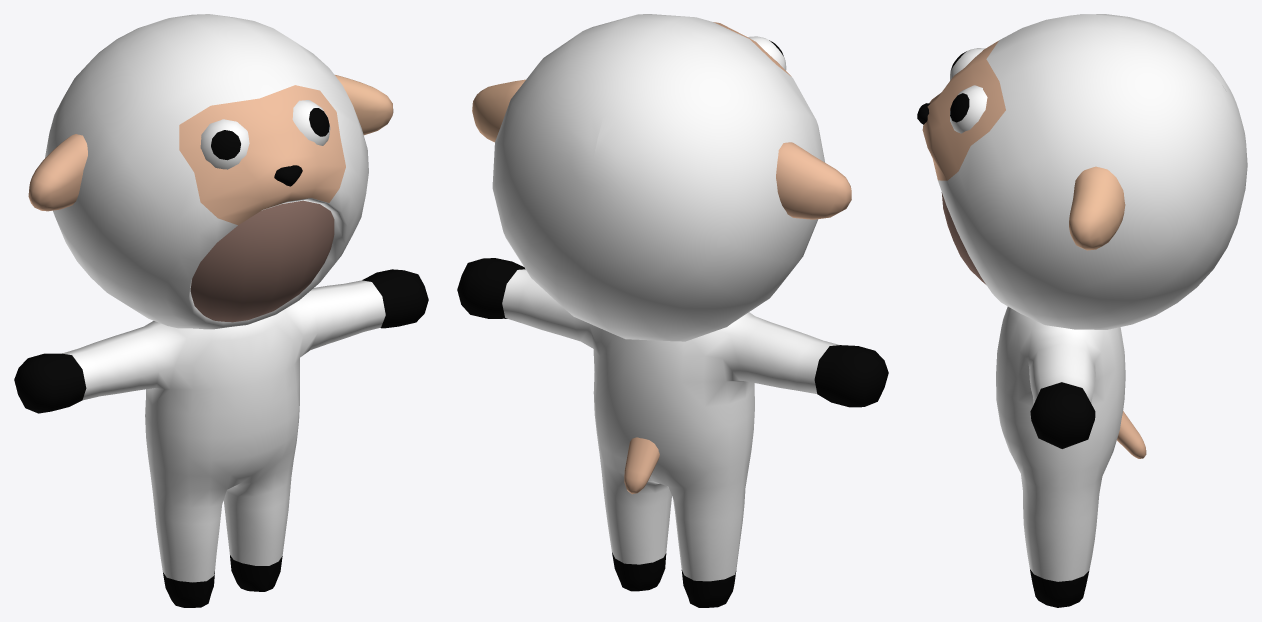
The model's file is sheep_cloth.fbx.
3 renders of one model, left to right at view 1: azimuth 30°, elevation 25°; view 2: azimuth 150°, elevation 25°; view 3: azimuth 270°, elevation 25°, orthographic. The views are drawn at different scales.
Visible parts, largest first — view 1: sheep_cloth_full; view 2: sheep_cloth_full; view 3: sheep_cloth_full.
Part boxes in pixels (left/top/right/bottom): sheep_cloth_full: left=14, top=14, right=428, bottom=607; sheep_cloth_full: left=457, top=14, right=888, bottom=607; sheep_cloth_full: left=917, top=14, right=1247, bottom=607.
Size of the model in its own units: 225 by 296 by 159.
